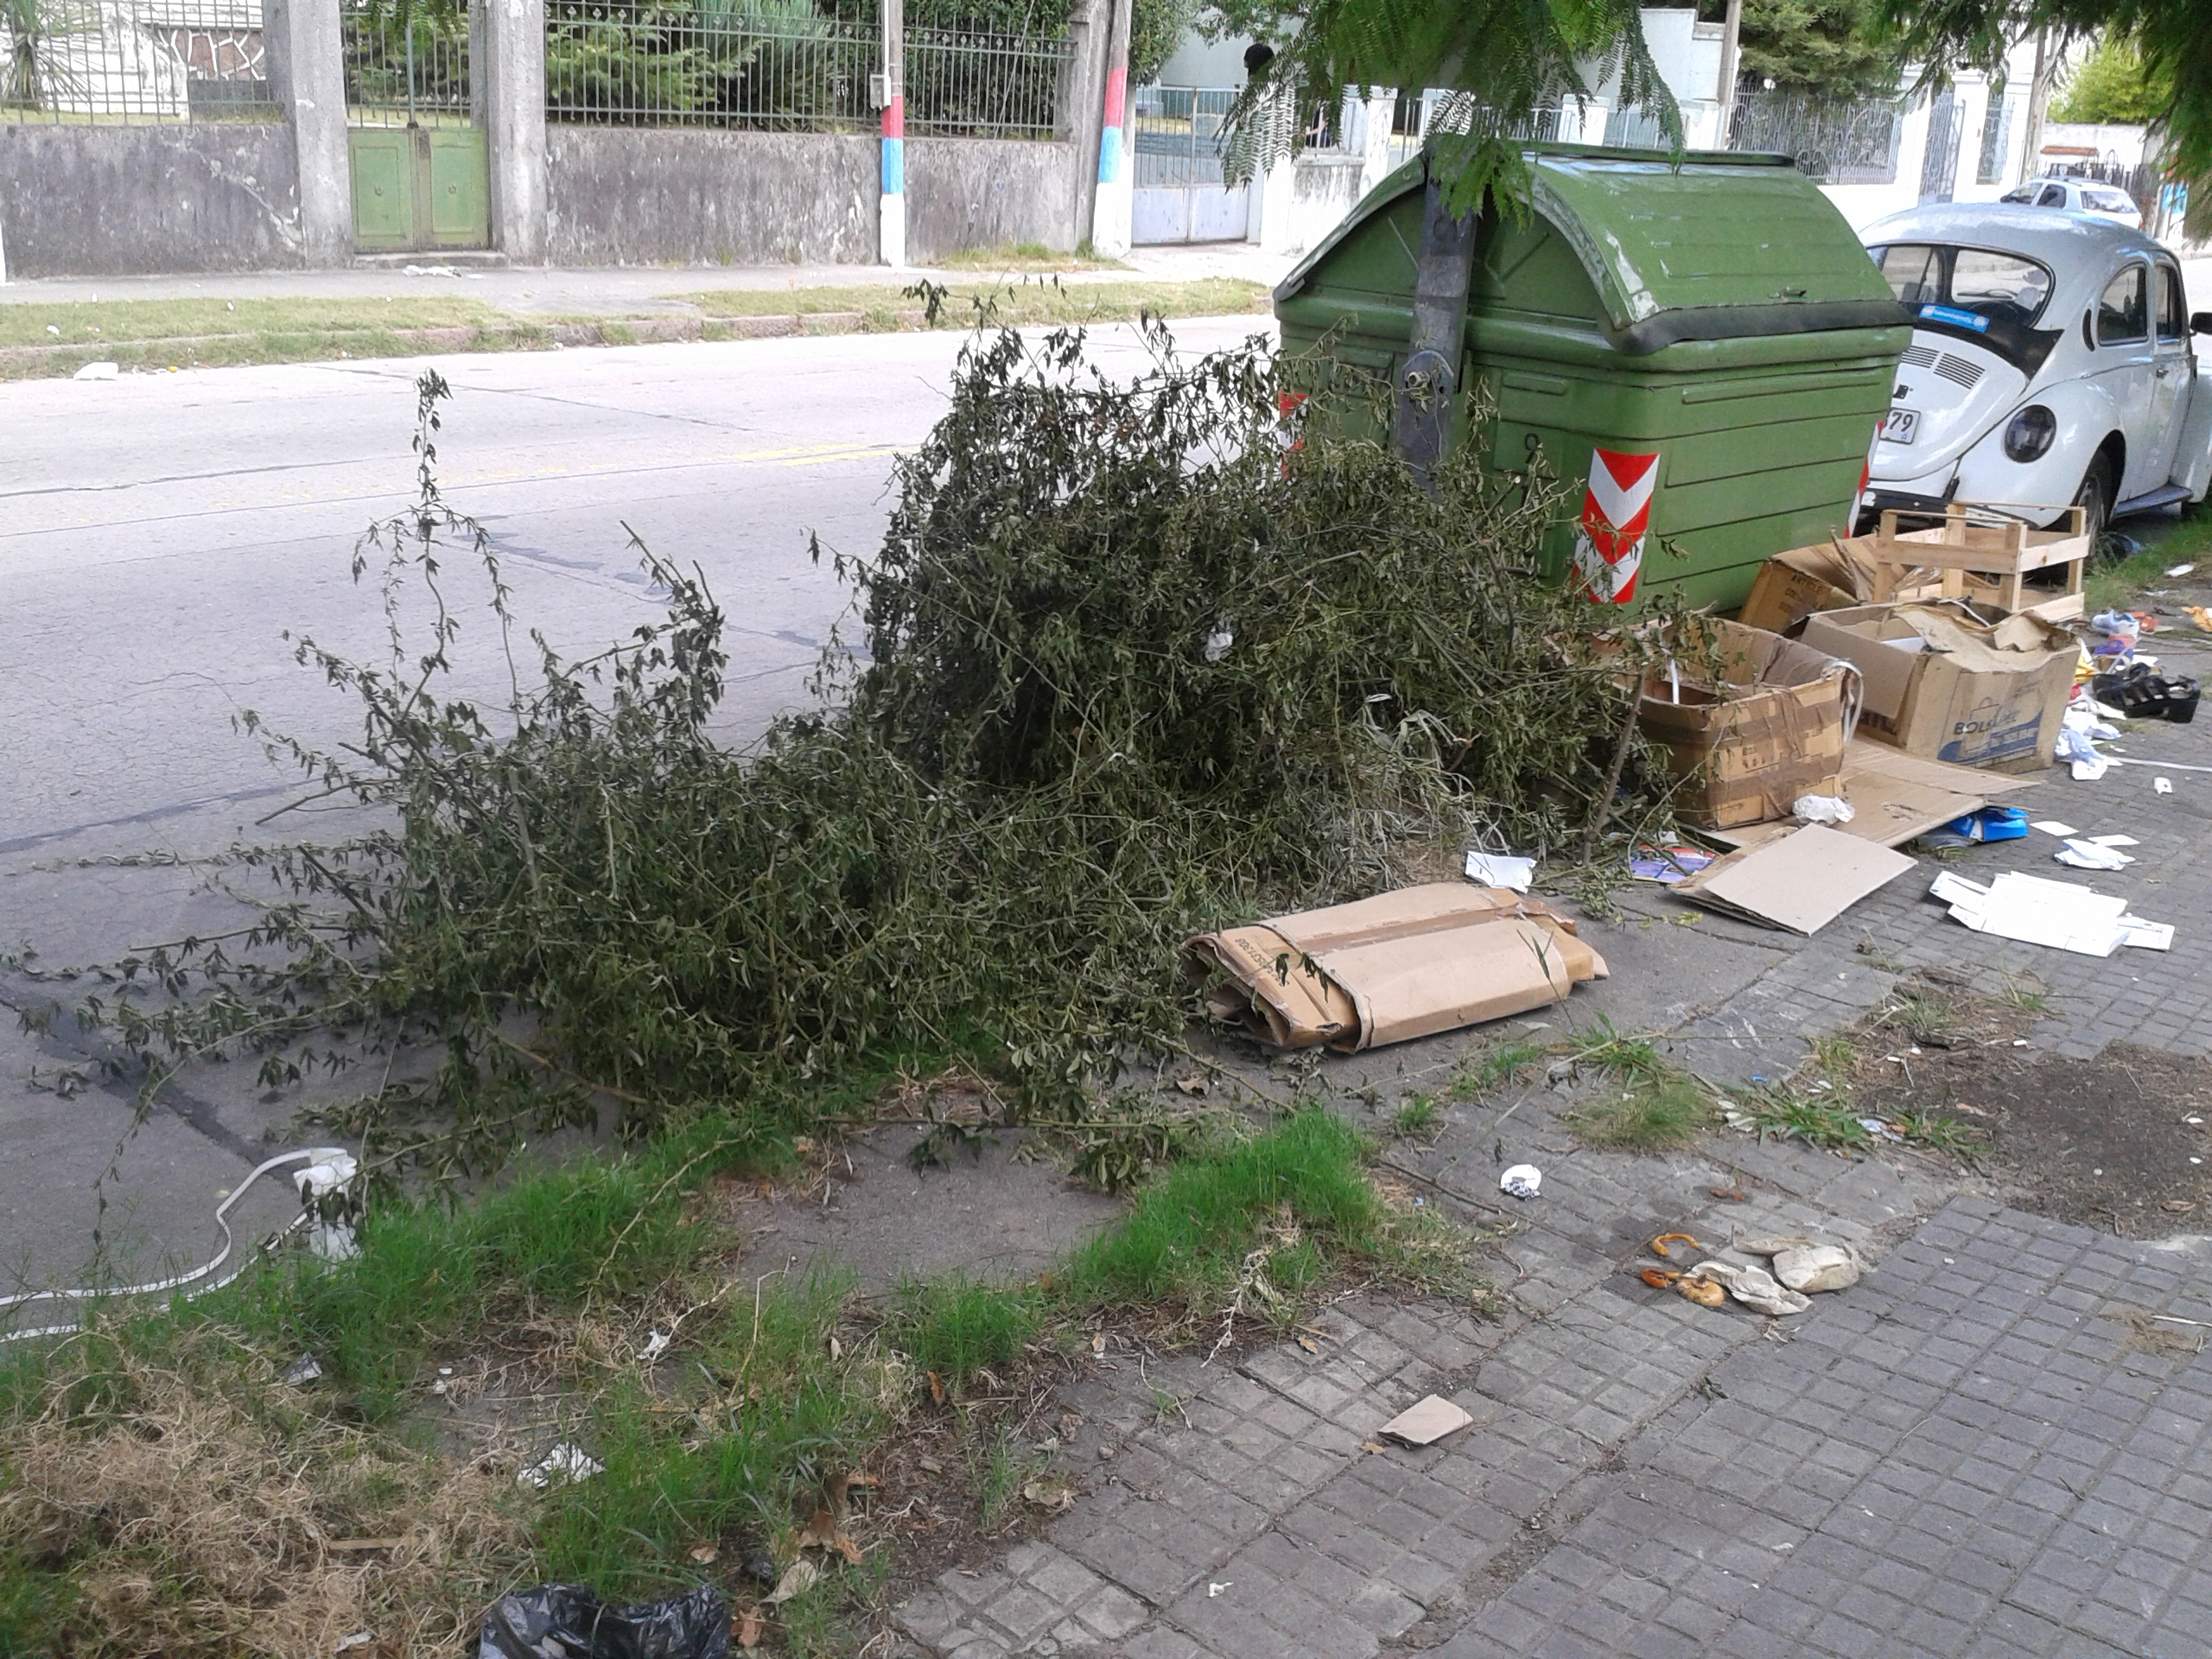container: (1254, 112, 1925, 660)
